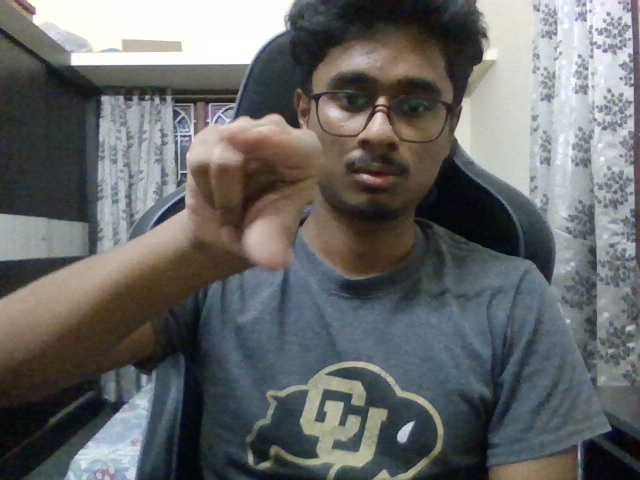no: (158, 90, 350, 296)
